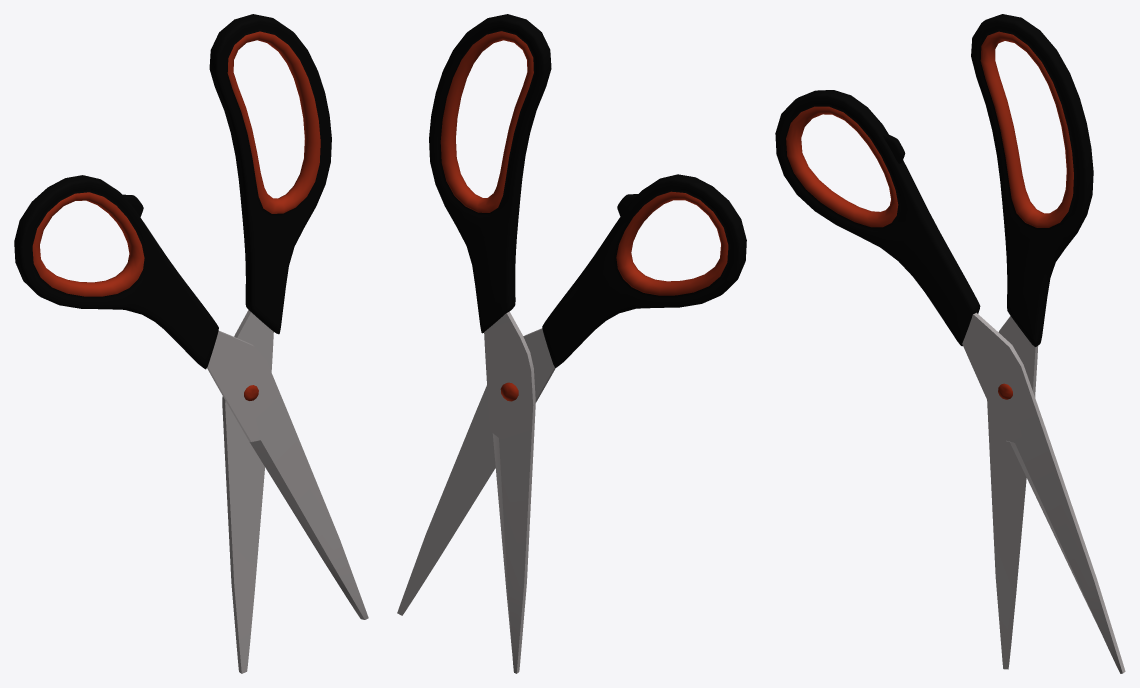
File: tijeras.glb
3 renders of one model, left to right at view 1: azimuth 30°, elevation 25°; view 2: azimuth 150°, elevation 25°; view 3: azimuth 330°, elevation 25°, orthographic.
Parts seen in each view (by area): view 1: node_id251_8, node_id254_9, node_id248_1; view 2: node_id251_8, node_id254_9, node_id248_1; view 3: node_id251_8, node_id254_9, node_id248_1.
Boxes of the visible parts, x1,y1,x2,y2 form: node_id251_8: (14,14,331,369); node_id254_9: (207,310,368,673); node_id248_1: (32,31,320,296); node_id251_8: (429,14,746,367); node_id254_9: (397,311,555,673); node_id248_1: (440,31,728,295); node_id251_8: (775,14,1093,346); node_id254_9: (962,312,1125,673); node_id248_1: (786,31,1073,227).
Bounding box in the file's own units: 0.2853 × 0.512 × 0.0141.
Materials: 4 (2 with a texture image).
